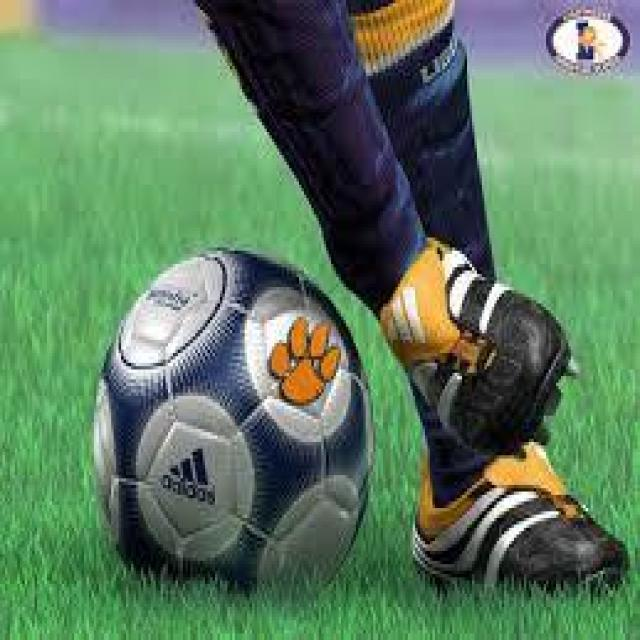Soccer Ball: (94, 244, 373, 591)
